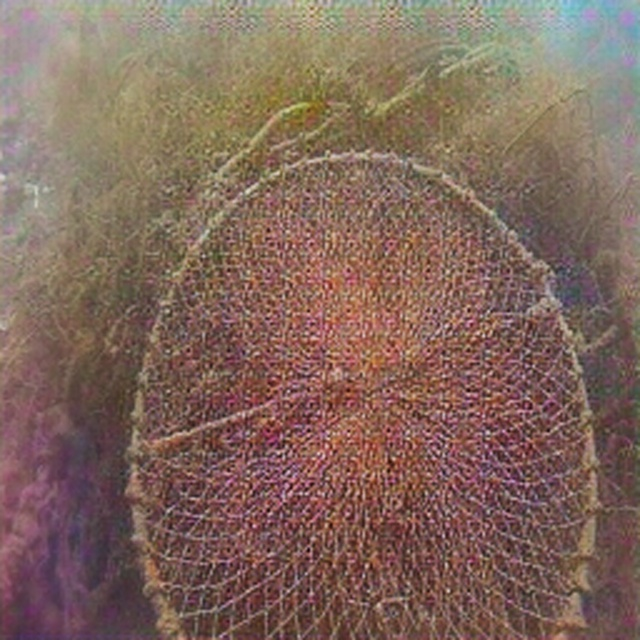mine: (124, 147, 601, 640)
